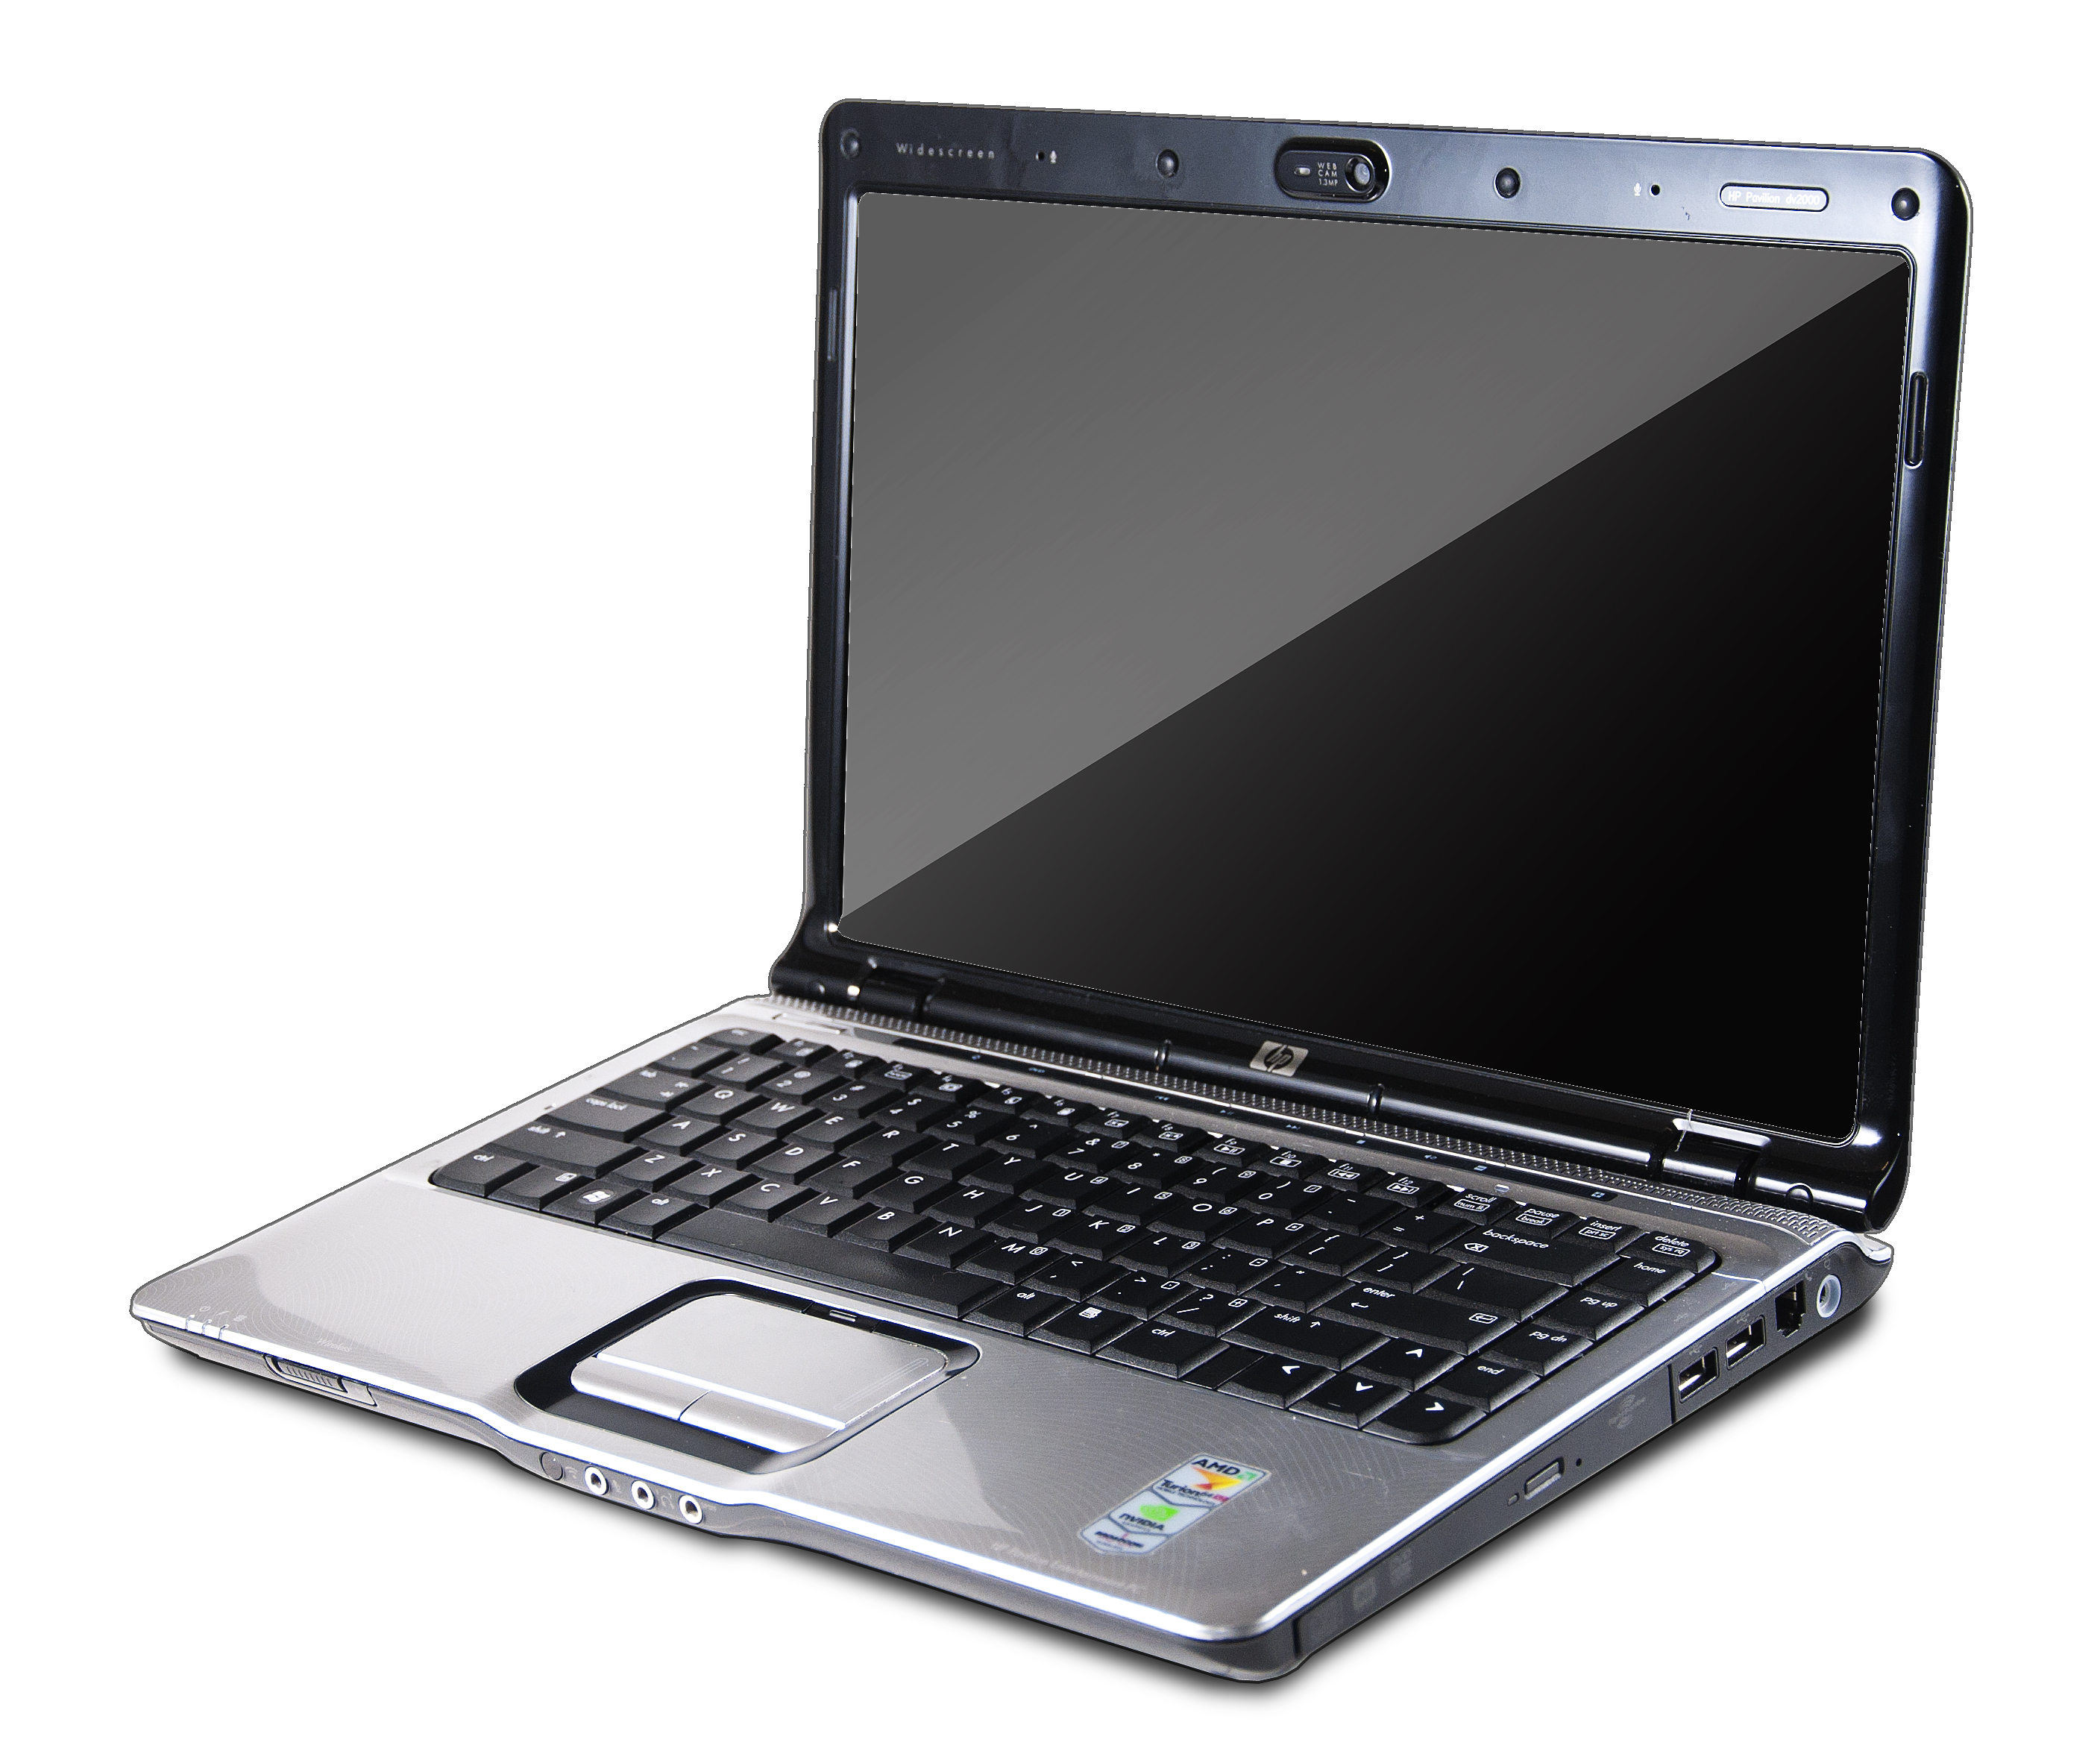laptop: (307, 37, 1964, 1449)
